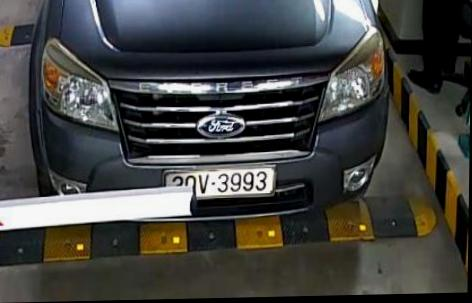License_Plate: (160, 165, 278, 202)
